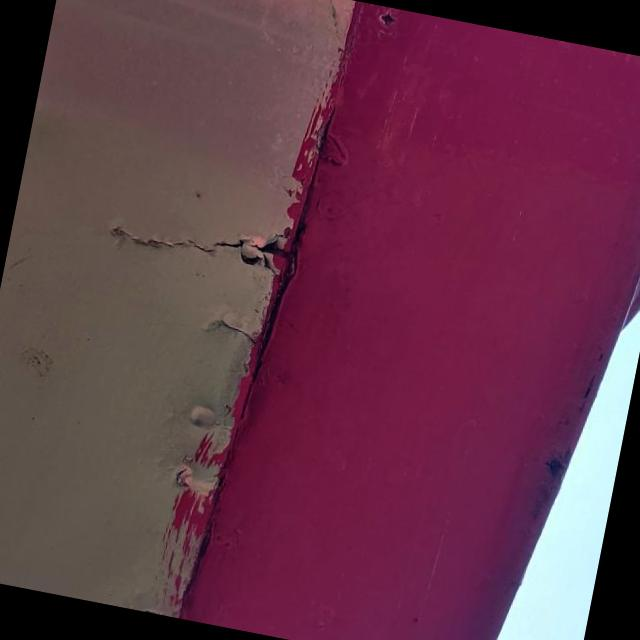dent: (310, 122, 360, 175)
